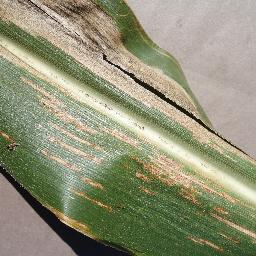Gray_Leaf_Spot: (21, 73, 127, 148), (192, 181, 256, 245), (36, 145, 117, 189), (137, 163, 205, 209), (0, 1, 112, 22), (110, 132, 168, 172), (16, 17, 119, 36), (33, 204, 77, 244), (106, 70, 174, 93), (0, 39, 41, 77), (186, 231, 239, 256), (41, 30, 129, 45), (123, 80, 183, 99), (142, 89, 191, 112), (189, 129, 245, 148), (55, 40, 128, 53), (95, 66, 156, 79), (227, 141, 256, 168), (74, 188, 115, 205), (180, 121, 222, 137), (207, 141, 256, 154), (73, 52, 141, 61), (74, 217, 94, 246), (0, 127, 23, 152), (79, 61, 147, 69), (164, 107, 200, 121), (102, 198, 116, 213)
